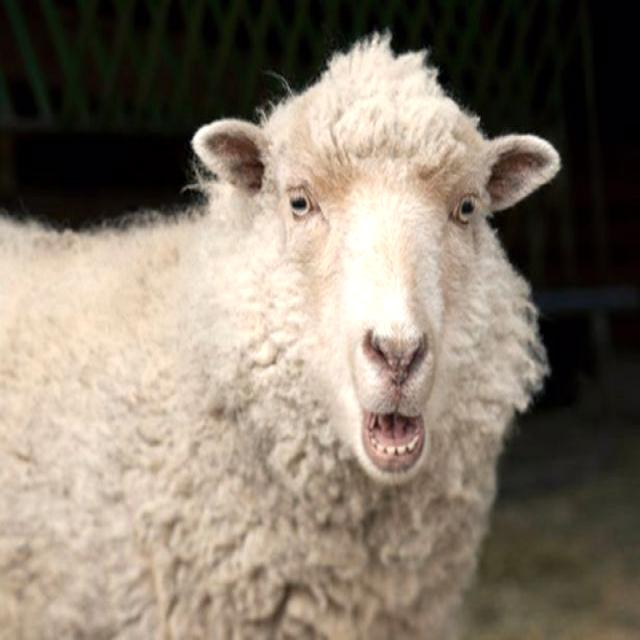sheep: (0, 33, 555, 635)
